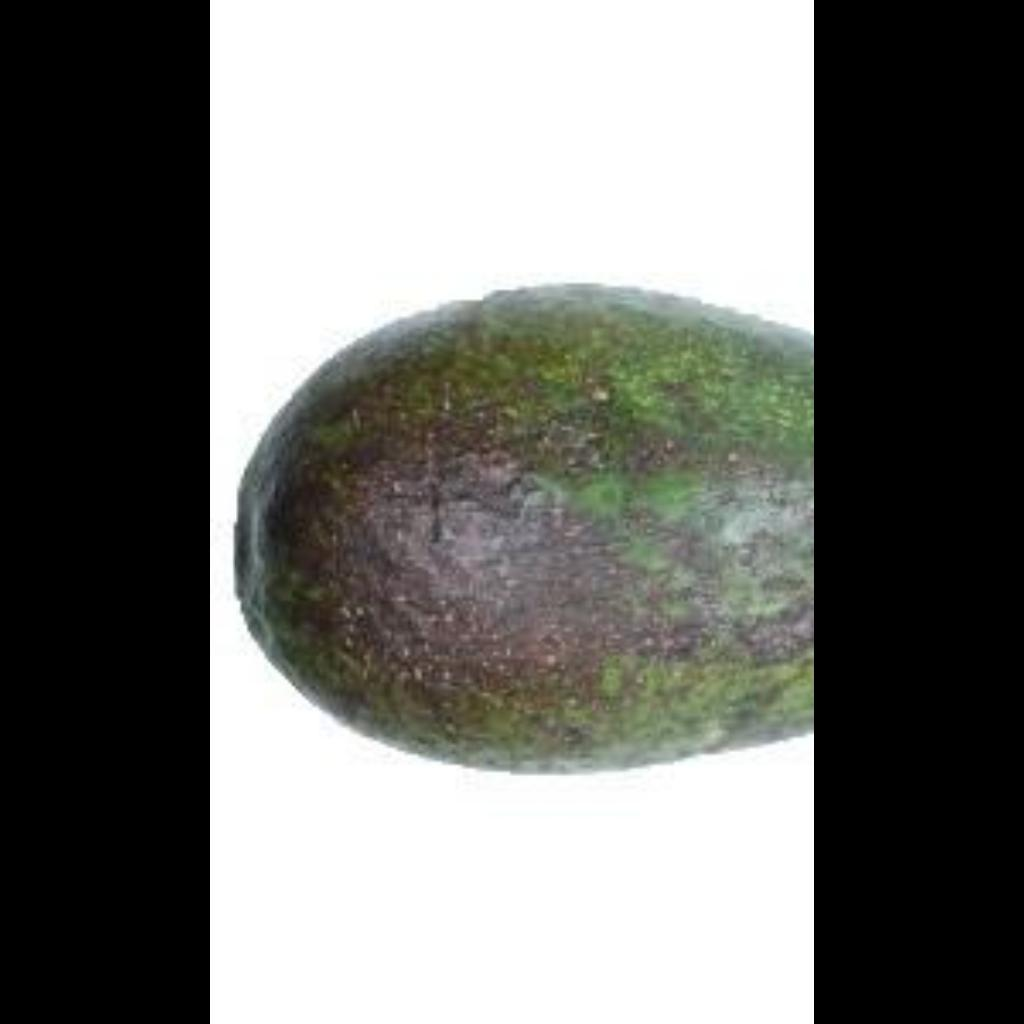Anthracnose: (224, 319, 800, 729)
